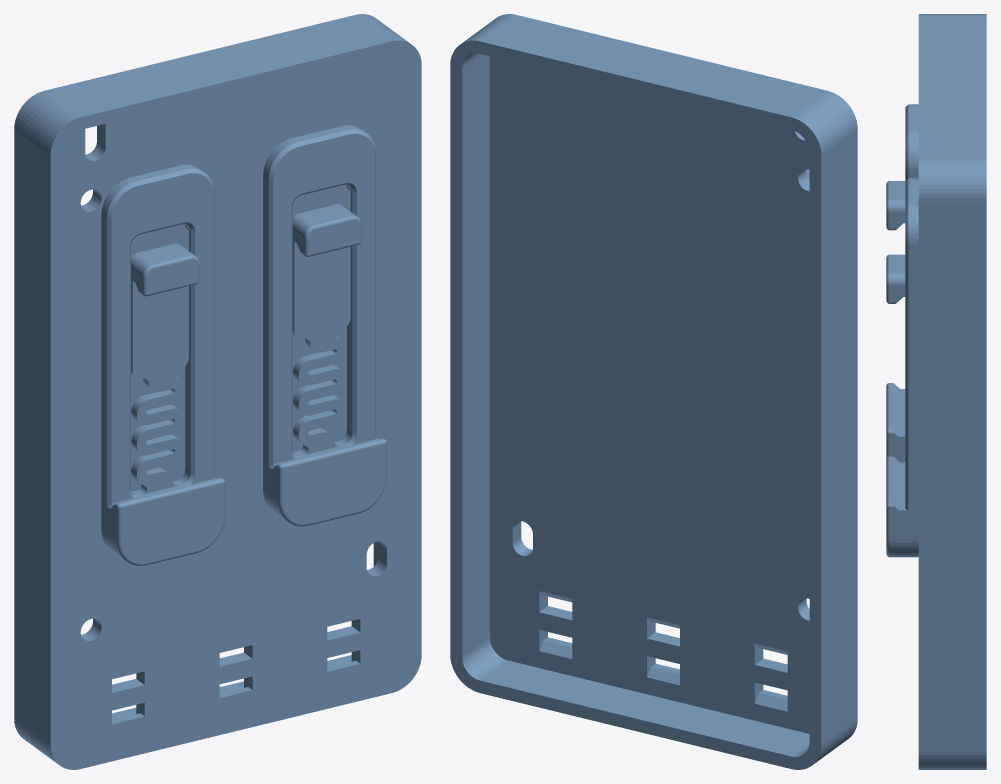
Rendered from din-rail-psu-mount.glb.
3 renders of one model, left to right at view 1: azimuth 30°, elevation 25°; view 2: azimuth 150°, elevation 25°; view 3: azimuth 270°, elevation 25°, orthographic. The views are drawn at different scales.
Parts seen in each view (by area): view 1: OpenSCAD_Model; view 2: OpenSCAD_Model; view 3: OpenSCAD_Model.
Part boxes in pixels (box(x1,y1,x2,y2)): OpenSCAD_Model: box(14, 14, 421, 769); OpenSCAD_Model: box(450, 14, 857, 769); OpenSCAD_Model: box(886, 14, 986, 769).
Bounding box in the file's own units: 62 × 104 × 15.51.
